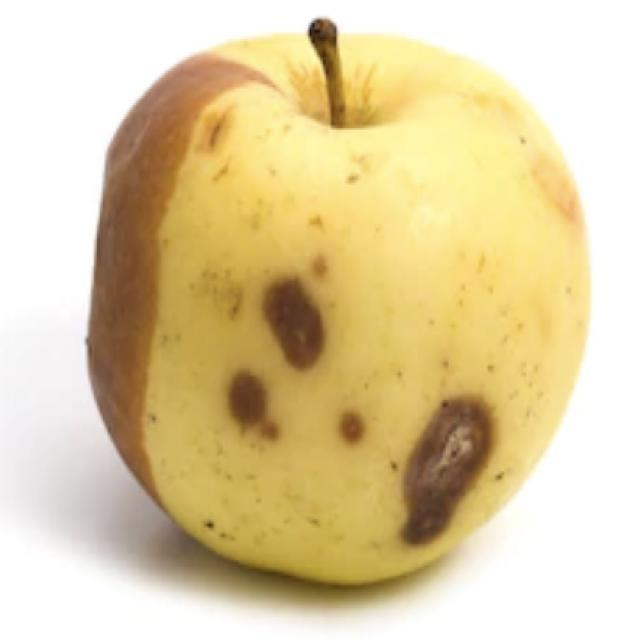Rotten: (84, 16, 594, 588)
